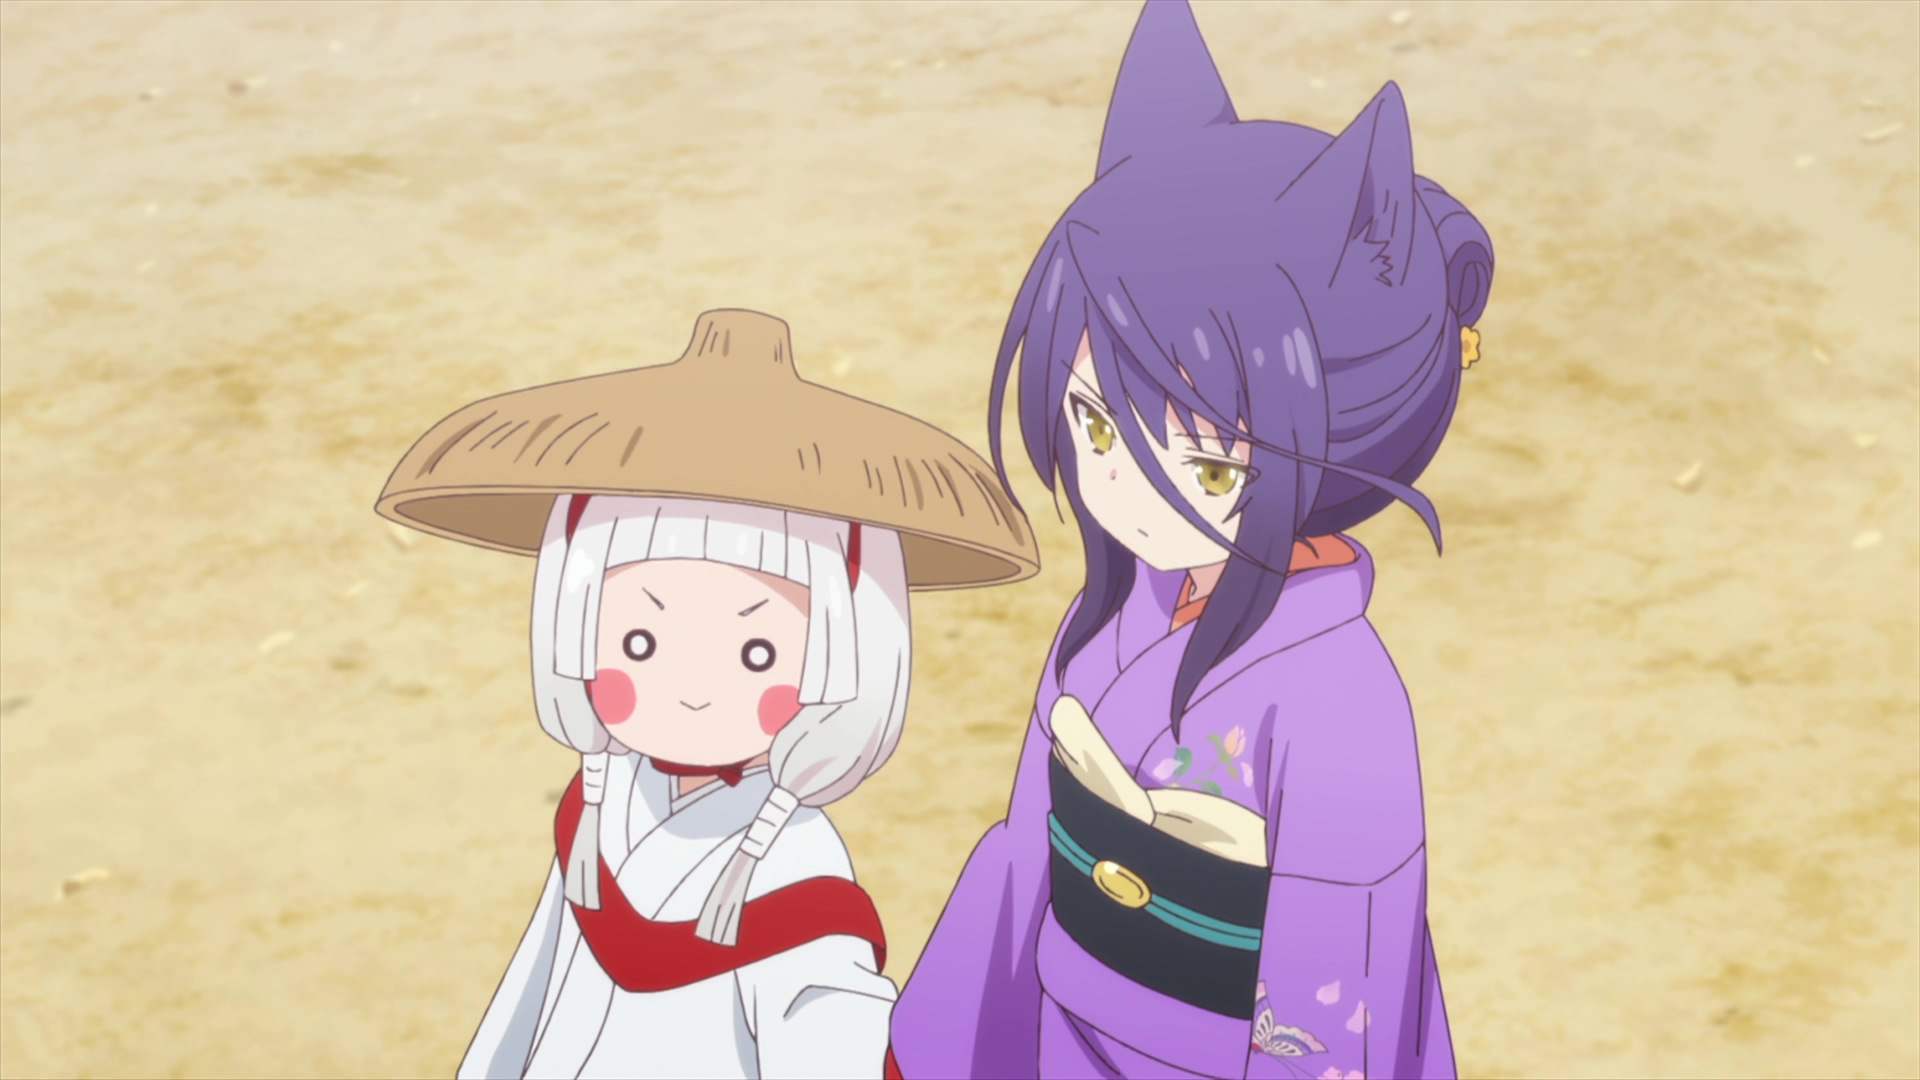其他: (377, 311, 1040, 1080)
皋: (882, 1, 1495, 1080)
